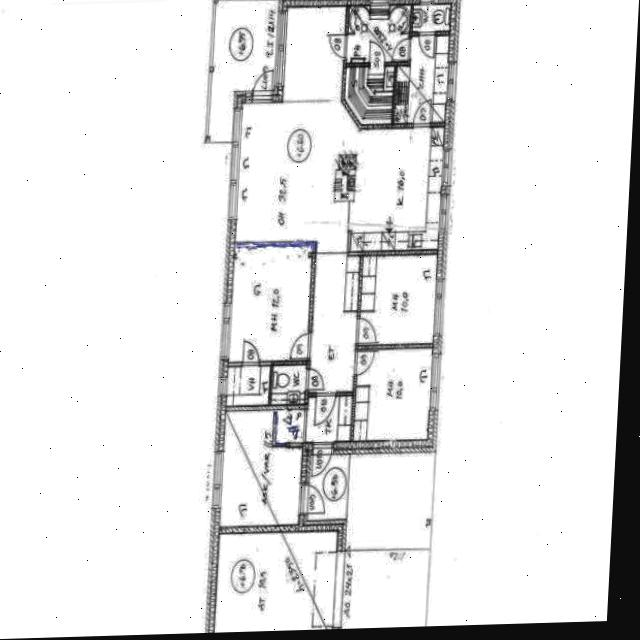room: (219, 405, 305, 531), (229, 243, 312, 365), (354, 346, 432, 443), (359, 253, 436, 347), (395, 33, 448, 126), (346, 5, 412, 63), (344, 64, 394, 126), (308, 453, 349, 521), (307, 394, 351, 443), (226, 367, 271, 405), (272, 364, 306, 405), (412, 5, 451, 31)
